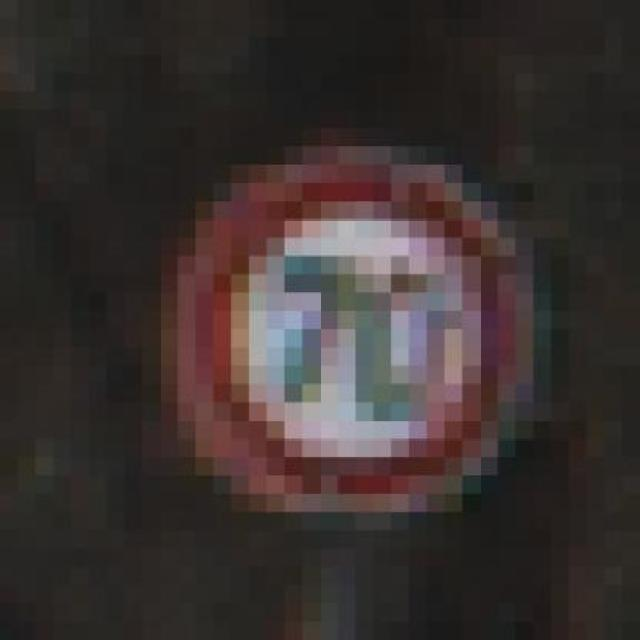forb_speed_over_70: (196, 165, 513, 500)
